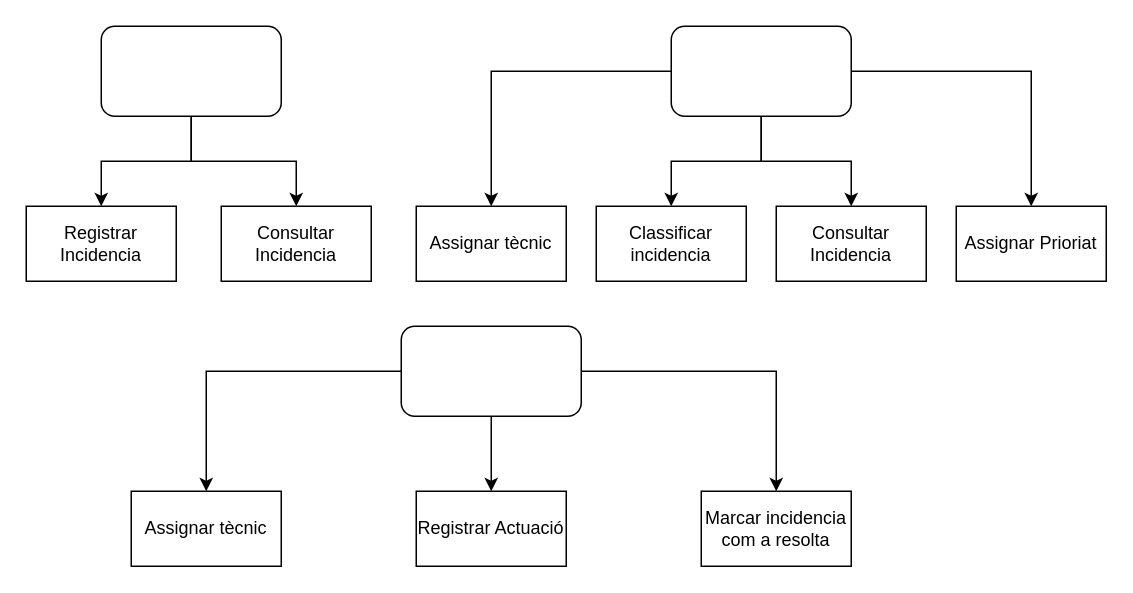
This 1133x593 diagram has some shape labels left out. The shapes that lost their labels are listed below. From the top down, each one's centre as x and y in pixels, then its label:
the point at 190,70: Usuari
the point at 760,70: Responsable
the point at 490,370: Tècnic
